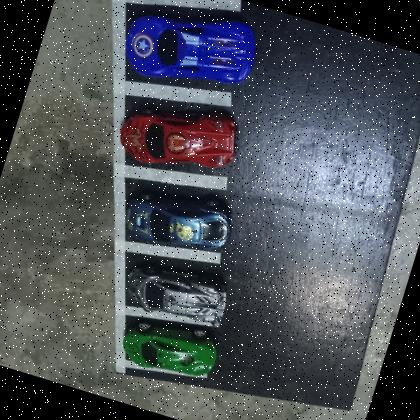Car: (116, 0, 263, 105), (113, 85, 246, 189), (118, 176, 238, 264), (120, 255, 234, 333), (116, 310, 224, 388)
